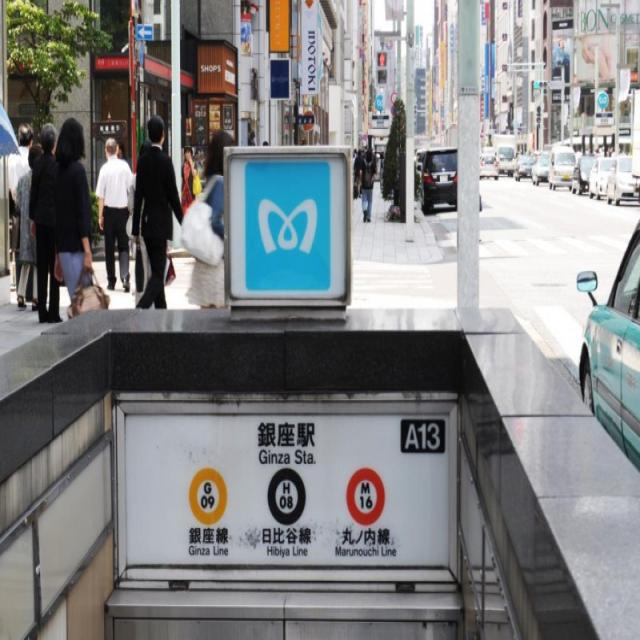body: (130, 113, 186, 311), (177, 128, 237, 312), (51, 116, 102, 319), (125, 140, 173, 310), (28, 121, 64, 324), (95, 134, 134, 294), (5, 122, 35, 305), (15, 142, 44, 314), (359, 144, 377, 226), (180, 144, 198, 216), (576, 143, 629, 163), (550, 39, 572, 76), (351, 146, 363, 196)
